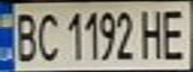1: (60, 8, 84, 61), (81, 7, 100, 61)
2: (115, 7, 139, 61)
9: (97, 7, 118, 61)
B: (9, 8, 42, 63)
C: (33, 8, 60, 62)
E: (157, 4, 190, 61)
H: (136, 6, 169, 61)
